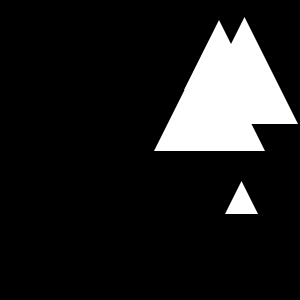triangle: (154, 40, 265, 151), (191, 17, 298, 124), (184, 20, 254, 90), (225, 181, 258, 214)
